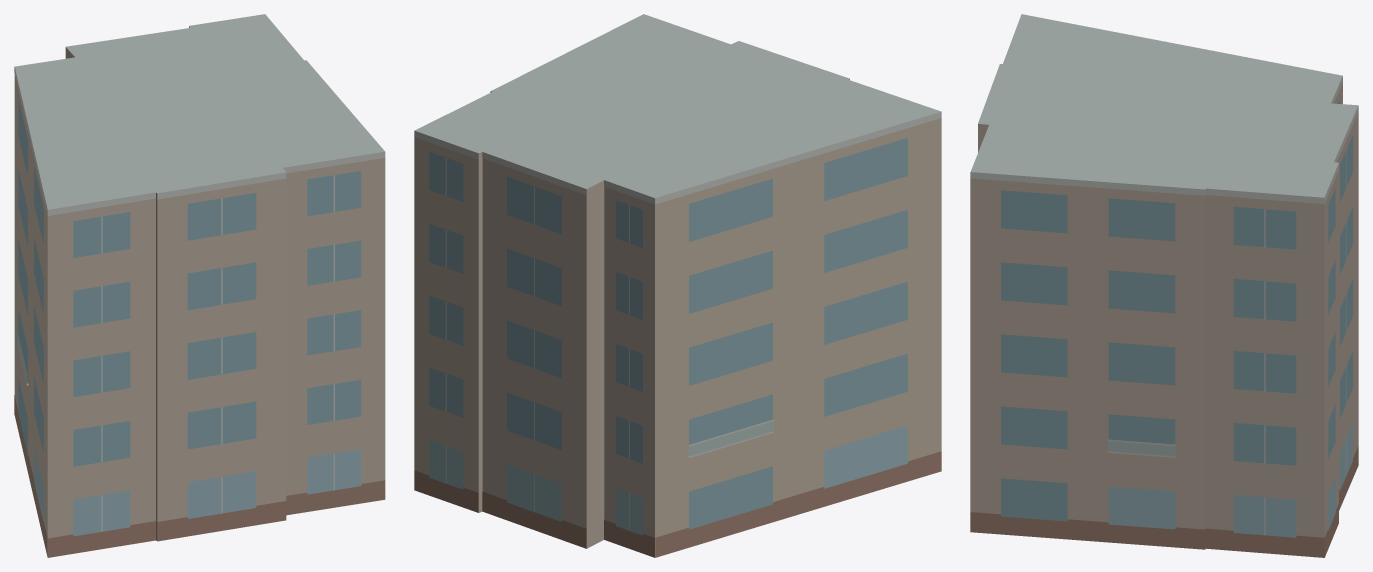
Rendered from survey-upis-32926714.glb.
3 views of the same model, side by side, from view 1: azimuth 30°, elevation 25°; view 2: azimuth 150°, elevation 25°; view 3: azimuth 270°, elevation 25° (orthographic). The views are drawn at different scales.
Parts seen in each view (by area): view 1: survey-upis-32926714.tmp; view 2: survey-upis-32926714.tmp; view 3: survey-upis-32926714.tmp.
Boxes of the visible parts, box(x1,y1,x2,y2) form: survey-upis-32926714.tmp: box(14, 14, 385, 557); survey-upis-32926714.tmp: box(414, 14, 941, 557); survey-upis-32926714.tmp: box(970, 14, 1358, 557).
Bounding box in the file's own units: 15.11 × 13.8 × 13.49.
